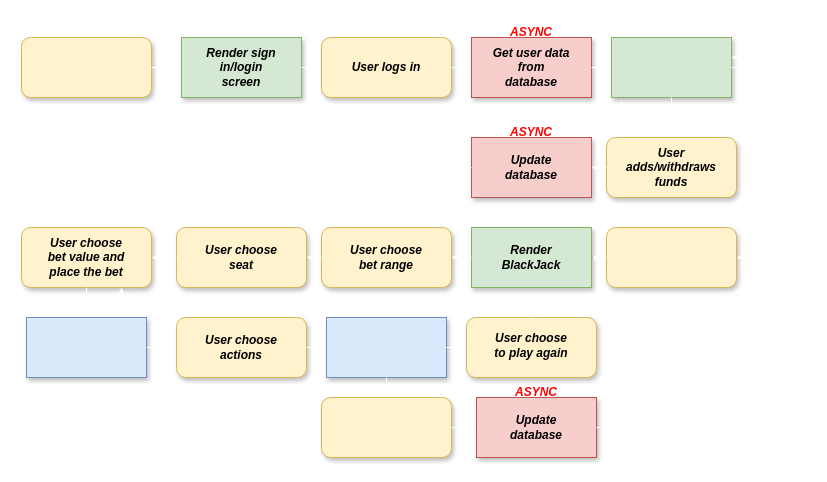
This 827x482 diagram has some shape labels left out. The centre of each missing label's shape, as x and y in pixels:
Dealer deals first cards: the point at 87,348
Page loads: the point at 87,68
Render welcome screen: the point at 672,68
The outcome: the point at 387,348
User choose to end the game: the point at 387,428
User clicks play game: the point at 672,258
